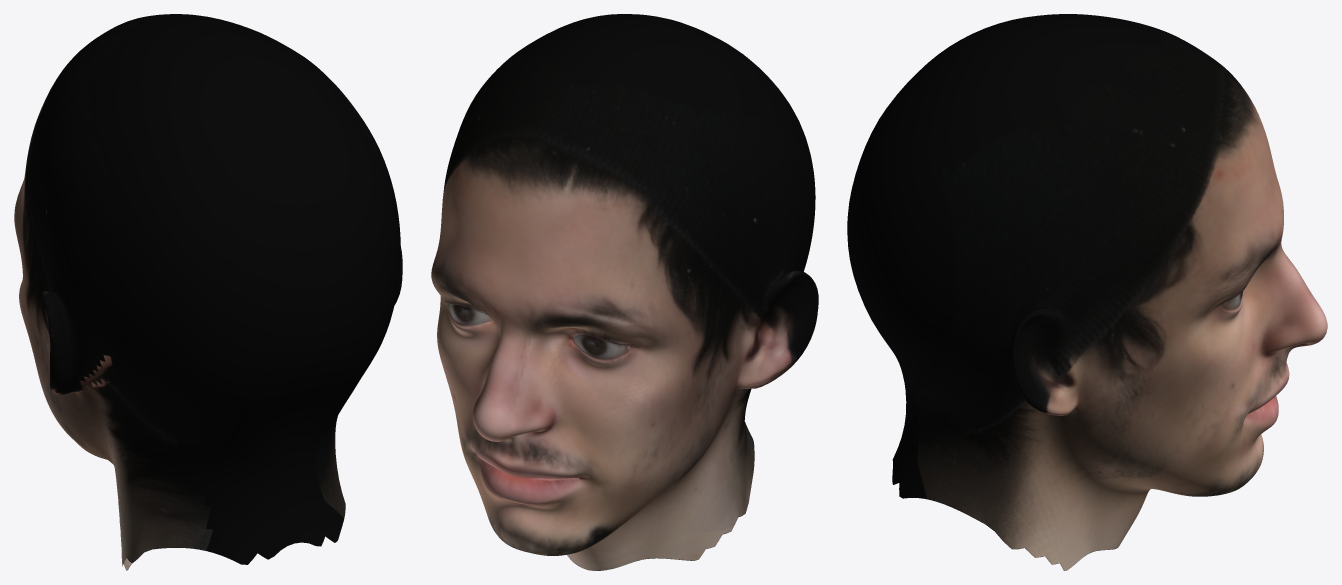
3 renders of one model, left to right at view 1: azimuth 30°, elevation 25°; view 2: azimuth 150°, elevation 25°; view 3: azimuth 270°, elevation 25°, orthographic.
Visible parts, largest first — view 1: FaceBuilderHead.001; view 2: FaceBuilderHead.001; view 3: FaceBuilderHead.001.
Part boxes in pixels (box(x1,y1,x2,y2)): FaceBuilderHead.001: box(14, 14, 402, 570); FaceBuilderHead.001: box(431, 14, 818, 570); FaceBuilderHead.001: box(847, 14, 1327, 570).
Bounding box in the file's own units: 1.7 × 2.42 × 2.06.
1 material, 1 textured.
